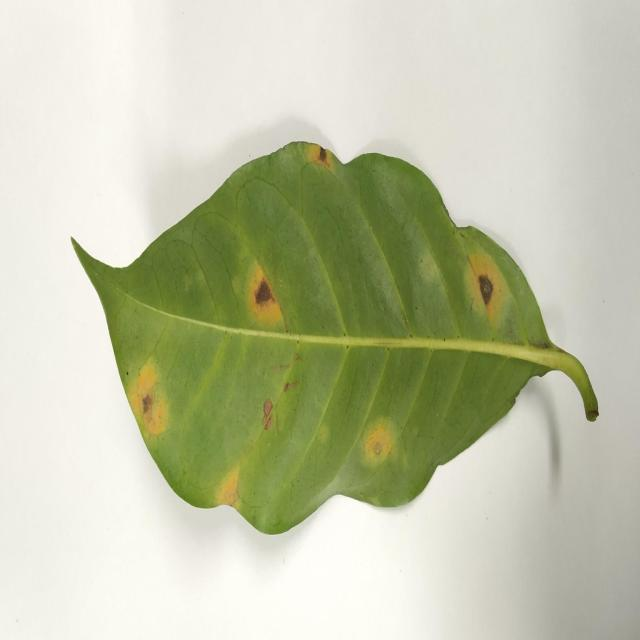Enfermedad-Roya: (71, 146, 599, 538)
